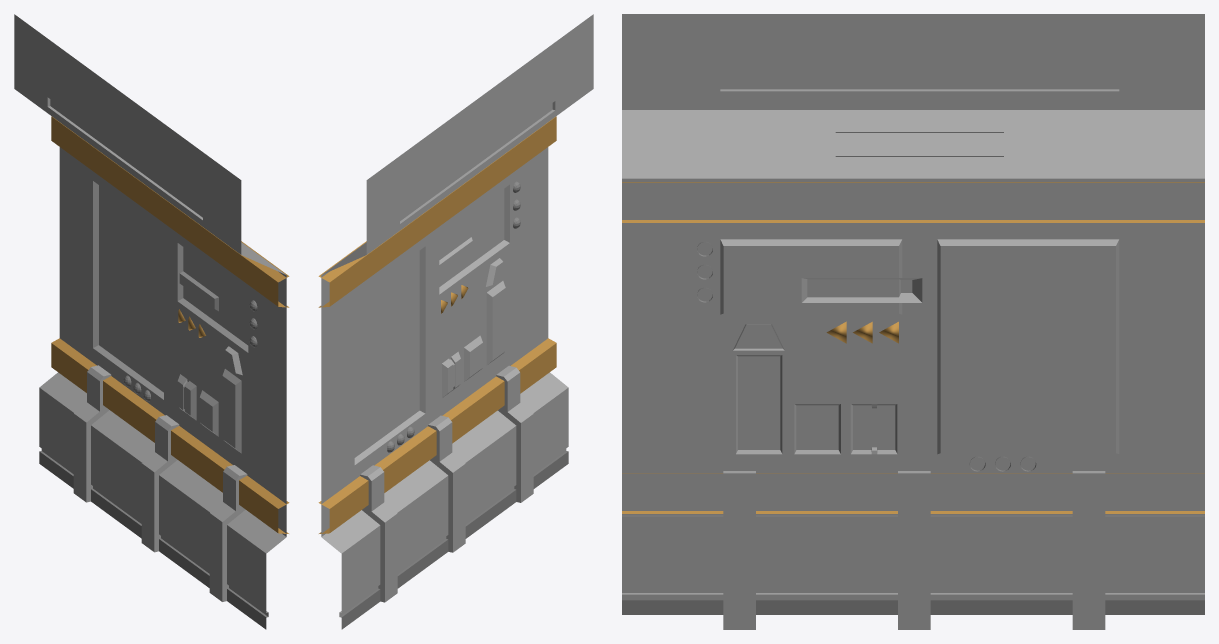
Rendered from wall_1.011_lev3.glb.
3 views of the same model, side by side, from view 1: azimuth 30°, elevation 25°; view 2: azimuth 150°, elevation 25°; view 3: azimuth 270°, elevation 25° (orthographic). The views are drawn at different scales.
Visible parts, largest first — view 1: wall_1.011_lev3; view 2: wall_1.011_lev3; view 3: wall_1.011_lev3.
Boxes of the visible parts, <box> form: wall_1.011_lev3: <box>14,14,289,629</box>; wall_1.011_lev3: <box>318,14,593,629</box>; wall_1.011_lev3: <box>622,14,1204,629</box>.
Bounding box in the file's own units: 0.5447 × 4.43 × 4.
